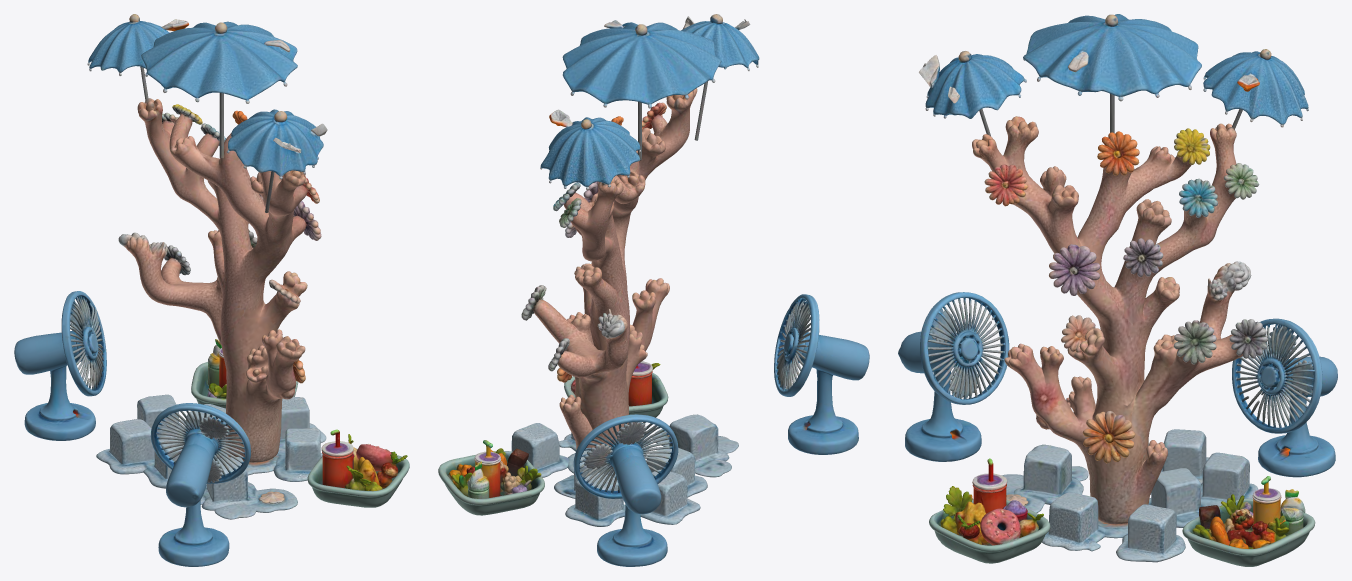
The picture shows the model from 3 angles, left to right: view 1: azimuth 30°, elevation 25°; view 2: azimuth 150°, elevation 25°; view 3: azimuth 270°, elevation 25°; orthographic projection. The views are drawn at different scales.
Size of the model in its own units: 0.6346 by 0.9793 by 0.8006.
Materials: 1 (1 with a texture image).
